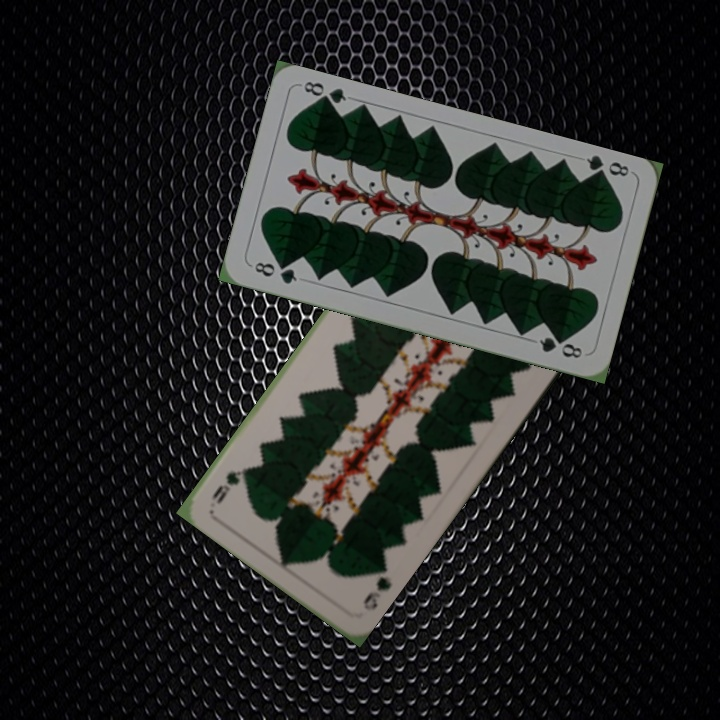G8: (582, 151, 632, 184), (250, 258, 300, 287)
G9: (359, 561, 395, 614)
